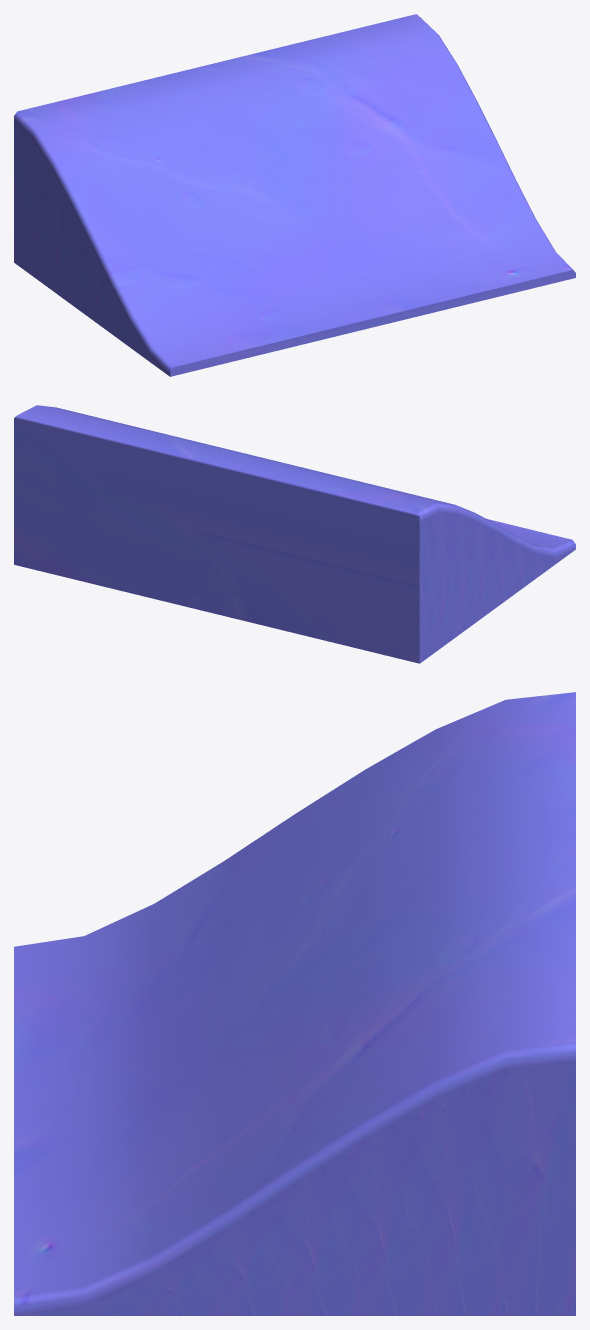
Rendered from sm_road_ramp_01.fbx.
The picture shows the model from 3 angles, top to bottom: view 1: azimuth 30°, elevation 25°; view 2: azimuth 150°, elevation 25°; view 3: azimuth 270°, elevation 25°; orthographic projection. The views are drawn at different scales.
Parts seen in each view (by area): view 1: sm_road_ramp_01; view 2: sm_road_ramp_01; view 3: sm_road_ramp_01.
Boxes of the visible parts, box(x1,y1,x2,y2) form: sm_road_ramp_01: box(14, 14, 575, 376); sm_road_ramp_01: box(14, 405, 575, 663); sm_road_ramp_01: box(14, 692, 575, 1315).
Bounding box in the file's own units: 1200 × 425 × 800.
